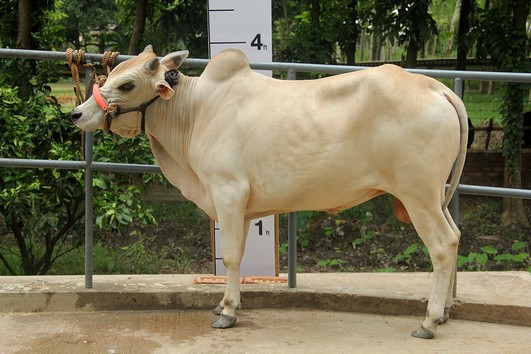cow: (60, 38, 472, 333)
